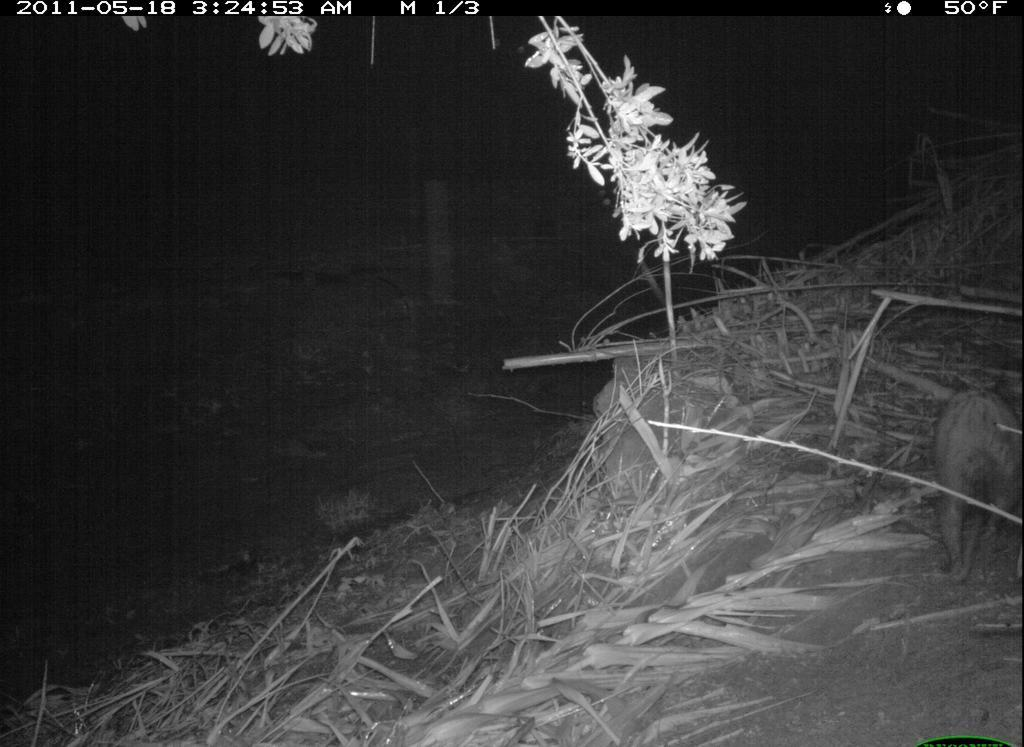opossum: (932, 379, 1019, 587)
